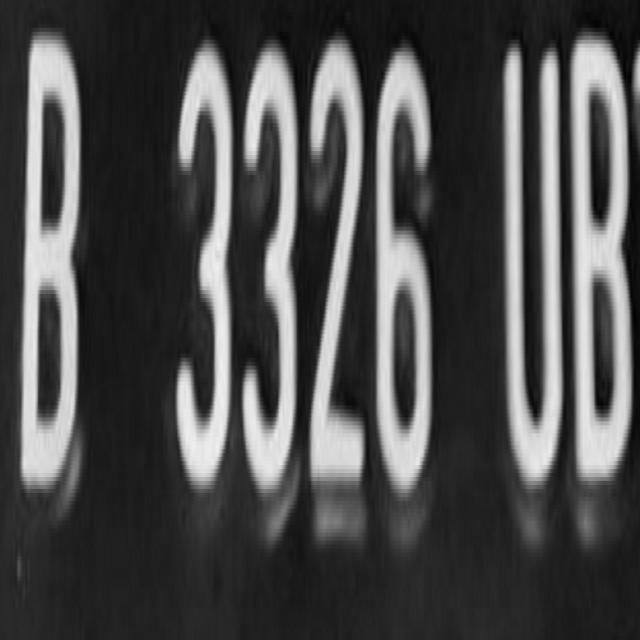2: (313, 41, 373, 488)
3: (168, 33, 230, 491), (240, 33, 298, 491)
6: (373, 33, 449, 501)
B: (574, 37, 638, 483), (21, 25, 78, 492)
U: (471, 26, 568, 487)
